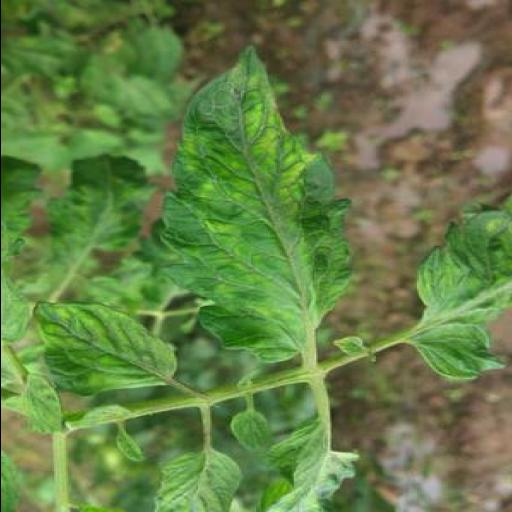Mosaic Virus: (154, 42, 358, 370), (410, 183, 512, 383), (30, 294, 192, 400)
